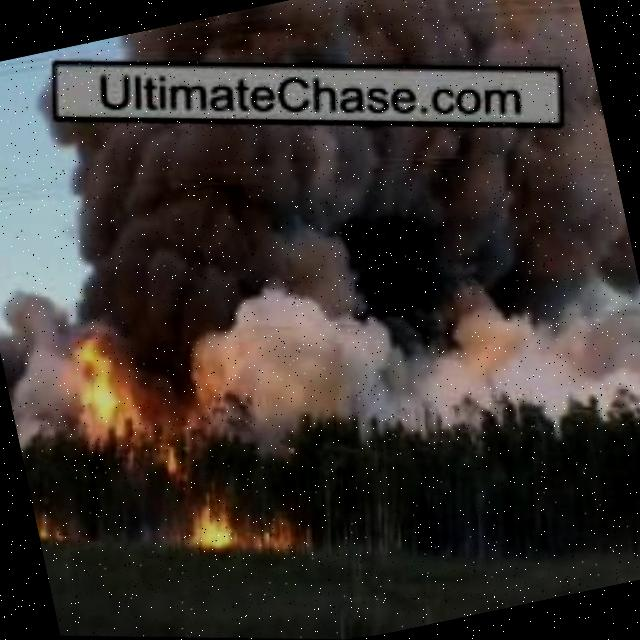fire: (56, 309, 175, 471), (181, 488, 247, 561), (34, 504, 87, 553), (259, 507, 309, 557)
